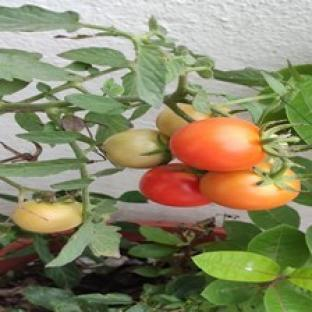Tomato: (170, 117, 264, 171), (200, 170, 300, 210), (140, 163, 210, 207), (101, 129, 171, 168), (12, 201, 82, 233), (156, 108, 188, 136)
